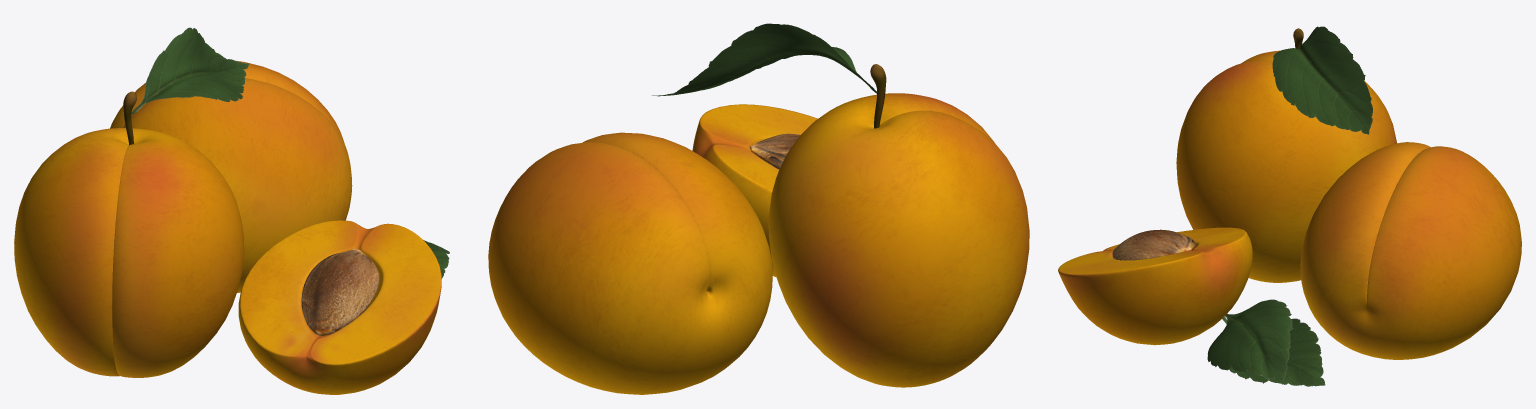
Rendered from apricot_cut.glb.
3 views of the same model, side by side, from view 1: azimuth 30°, elevation 25°; view 2: azimuth 150°, elevation 25°; view 3: azimuth 270°, elevation 25° (orthographic). The views are drawn at different scales.
Parts seen in each view (by area): view 1: unnamed (×2); view 2: unnamed (×2); view 3: unnamed (×2).
Part boxes in pixels (bbox=[...]): unnamed (×2): bbox=[14, 27, 449, 394]; unnamed (×2): bbox=[488, 23, 1029, 394]; unnamed (×2): bbox=[1058, 26, 1521, 386].
Bounding box in the file's own units: 11.18 × 7.83 × 11.33.
Materials: 1 (1 with a texture image).
